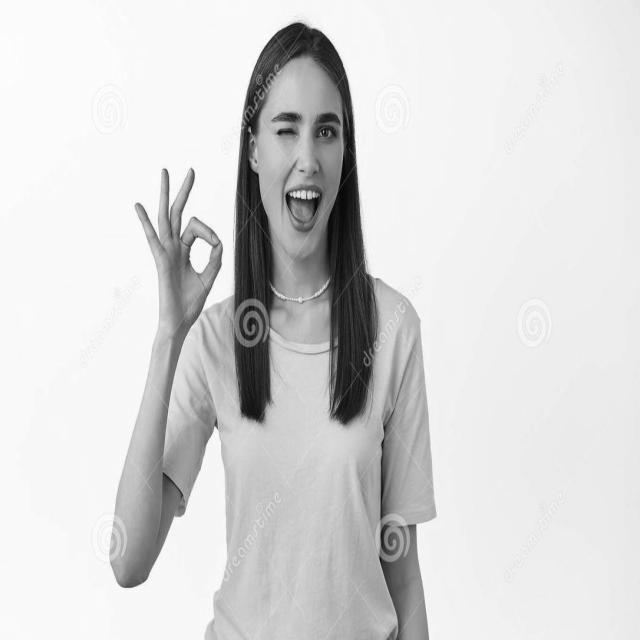perfect: (131, 157, 226, 338)
